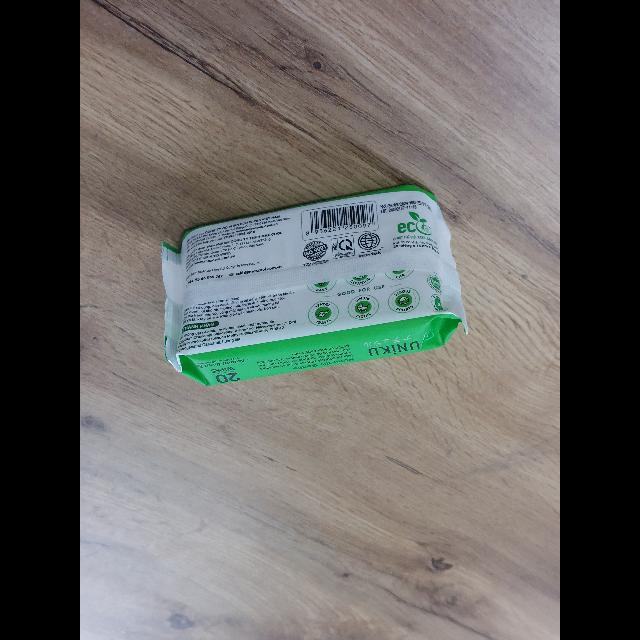khan_giay: (161, 181, 467, 385)
